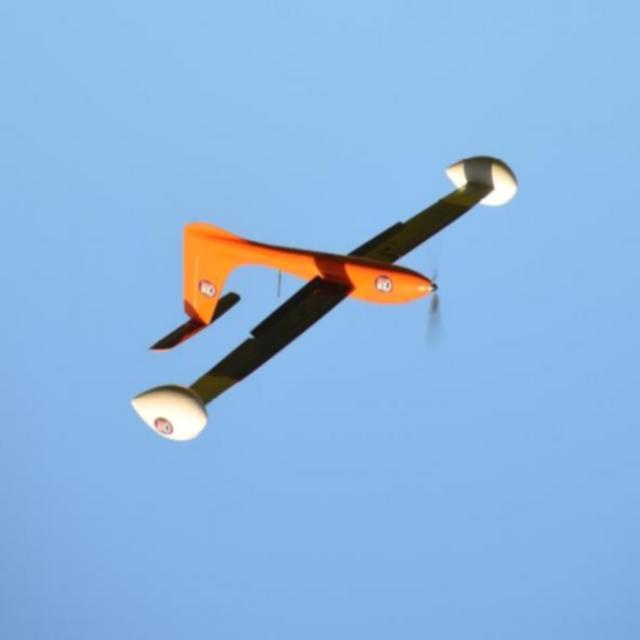plane: (131, 154, 520, 444)
